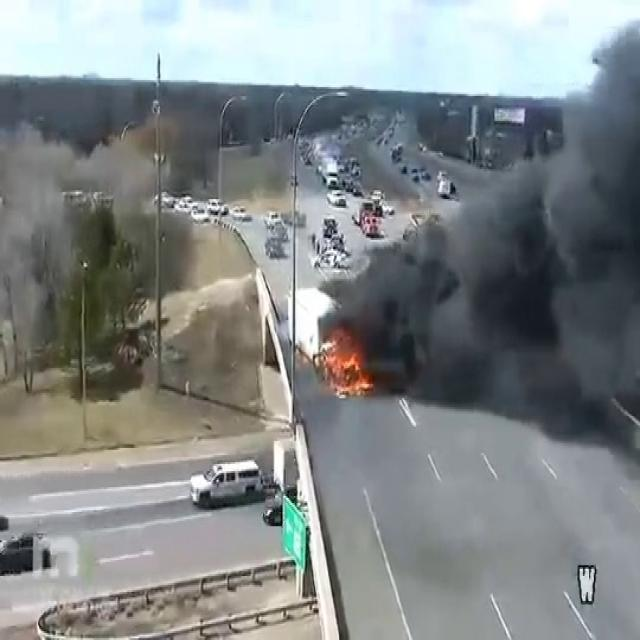Fire: (309, 328, 369, 394)
Smoke: (340, 4, 640, 404), (0, 104, 84, 358), (92, 114, 174, 242)
